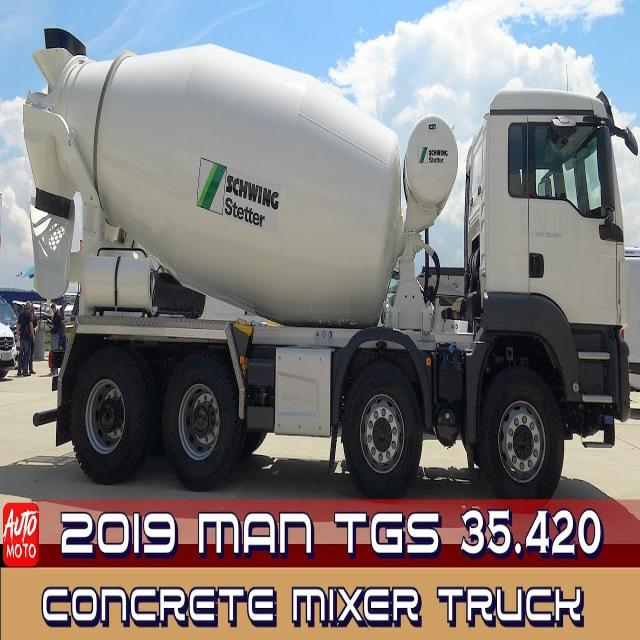Mixer Truck: (24, 28, 630, 496)
